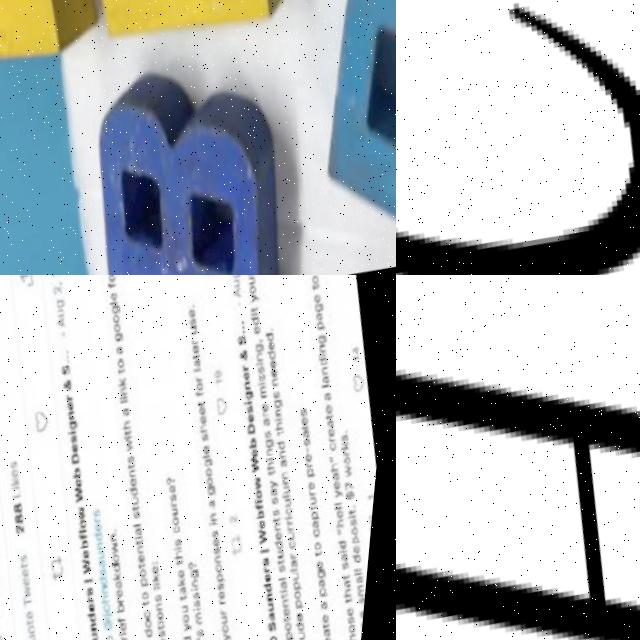0: (1, 633, 10, 640)
1: (371, 491, 380, 498), (218, 377, 226, 383), (356, 353, 364, 359)
2: (21, 523, 31, 533), (54, 284, 64, 293), (234, 513, 244, 522)
4: (354, 344, 364, 353)
7: (349, 479, 359, 488)
8: (19, 512, 30, 523), (18, 501, 28, 512)
9: (216, 368, 226, 377)
A: (58, 316, 69, 327), (232, 286, 243, 296), (275, 609, 284, 619), (362, 572, 371, 582), (187, 583, 195, 594), (337, 469, 345, 479), (118, 345, 126, 354), (267, 416, 275, 425), (297, 557, 305, 566), (317, 517, 325, 526), (350, 576, 358, 585), (347, 551, 355, 560), (330, 416, 338, 425), (327, 390, 335, 399), (325, 373, 333, 382), (317, 310, 325, 319), (328, 598, 335, 608), (105, 558, 112, 567), (122, 579, 129, 588), (141, 526, 148, 535), (126, 406, 133, 415), (214, 498, 221, 507), (196, 358, 203, 367), (287, 578, 294, 587), (276, 485, 283, 494), (285, 456, 292, 465), (331, 626, 338, 635), (325, 576, 332, 585), (307, 428, 314, 437), (366, 607, 372, 616)
B: (74, 55, 321, 275), (85, 538, 96, 548), (260, 508, 271, 518), (77, 467, 87, 477), (251, 436, 261, 446), (123, 602, 133, 611)
C: (396, 0, 640, 275), (290, 504, 299, 514), (295, 538, 303, 547), (333, 440, 341, 449), (151, 608, 158, 617), (180, 524, 187, 533), (319, 526, 326, 535)
D: (249, 421, 260, 433), (133, 485, 144, 496), (269, 580, 280, 591), (94, 611, 105, 621), (302, 620, 312, 630), (321, 354, 331, 364), (358, 552, 368, 562), (75, 451, 85, 461), (105, 575, 115, 584), (118, 562, 128, 571), (151, 628, 161, 637), (280, 538, 290, 547), (251, 314, 261, 323), (280, 439, 289, 449), (266, 331, 276, 340), (344, 537, 354, 546), (100, 530, 109, 540), (269, 349, 278, 358), (276, 633, 287, 640), (190, 634, 200, 640)
E: (270, 570, 279, 581), (280, 528, 289, 539), (88, 548, 97, 558), (111, 290, 120, 300), (250, 411, 260, 420), (245, 369, 254, 379), (322, 558, 331, 568), (341, 506, 350, 516), (314, 291, 323, 301), (95, 601, 103, 611), (100, 521, 108, 531), (264, 517, 272, 527), (255, 446, 263, 456), (329, 611, 337, 621), (309, 450, 317, 460), (338, 477, 346, 487), (29, 577, 37, 586), (16, 468, 24, 477), (75, 442, 83, 451), (70, 400, 78, 409), (127, 621, 135, 630), (158, 564, 166, 573), (185, 568, 193, 577), (218, 536, 226, 545), (207, 444, 215, 453), (203, 414, 211, 423), (194, 343, 202, 352), (190, 307, 198, 316), (290, 605, 298, 614), (265, 401, 273, 410), (255, 323, 263, 332), (273, 366, 281, 375), (272, 358, 280, 367), (270, 340, 278, 349), (354, 604, 362, 613), (329, 403, 337, 412), (80, 477, 87, 487), (135, 476, 142, 486), (34, 610, 41, 619), (29, 567, 36, 576), (123, 587, 130, 596), (144, 552, 151, 561), (174, 483, 181, 492), (225, 588, 232, 597), (202, 404, 209, 413), (304, 611, 311, 620), (313, 479, 320, 488), (305, 414, 312, 423), (332, 426, 339, 435), (359, 542, 366, 551), (332, 634, 339, 640), (166, 635, 174, 640), (0, 576, 3, 585)
F: (84, 531, 93, 538), (260, 501, 269, 508), (108, 281, 118, 287), (198, 389, 208, 395), (125, 615, 134, 621)
G: (196, 567, 207, 577), (323, 566, 334, 576), (72, 420, 82, 429), (116, 331, 126, 340), (248, 388, 258, 397), (269, 437, 279, 446), (320, 332, 329, 342), (316, 301, 326, 310), (57, 298, 67, 307), (113, 303, 122, 312), (213, 485, 222, 494), (209, 456, 218, 465), (258, 342, 267, 351), (277, 396, 286, 405)
H: (396, 375, 640, 640), (107, 594, 117, 603), (180, 549, 190, 558), (202, 422, 212, 431), (269, 459, 279, 468), (354, 631, 364, 640), (349, 586, 359, 595), (340, 516, 350, 525), (333, 461, 343, 470), (126, 419, 135, 428), (278, 420, 287, 429)
I: (260, 379, 269, 384), (159, 579, 167, 584), (258, 359, 266, 364), (247, 399, 256, 403), (289, 514, 298, 518), (17, 485, 25, 489), (72, 429, 80, 433), (126, 630, 134, 634), (140, 534, 148, 538), (128, 434, 136, 438), (164, 619, 172, 623), (180, 545, 188, 549), (200, 605, 208, 609), (198, 585, 206, 589), (286, 587, 294, 591), (270, 455, 278, 459), (252, 310, 260, 314), (344, 547, 352, 551), (354, 512, 362, 516), (123, 394, 131, 397), (216, 519, 222, 523), (278, 416, 286, 419), (320, 351, 328, 354), (0, 596, 4, 600)
J: (110, 611, 120, 616)
K: (119, 570, 129, 579), (120, 377, 130, 386), (184, 576, 193, 585), (157, 572, 167, 580), (344, 440, 354, 447), (15, 477, 24, 484)
L: (0, 0, 124, 98), (17, 488, 26, 498), (360, 569, 368, 574), (360, 565, 369, 569), (84, 528, 92, 532), (111, 300, 119, 304), (160, 585, 168, 589), (196, 366, 204, 370), (260, 497, 268, 501), (284, 575, 292, 579), (287, 492, 295, 496), (339, 504, 347, 508), (339, 499, 347, 503), (123, 399, 132, 402), (296, 566, 305, 569), (139, 523, 147, 526), (207, 453, 215, 456), (305, 423, 313, 426), (325, 383, 333, 386), (305, 638, 313, 640)
M: (201, 609, 210, 623), (286, 470, 295, 484), (363, 581, 372, 595), (263, 383, 271, 397)
N: (108, 584, 116, 594), (273, 590, 281, 600), (279, 520, 287, 530), (198, 578, 206, 587), (220, 553, 228, 562), (246, 379, 254, 388), (258, 351, 266, 360), (278, 406, 286, 415), (274, 375, 282, 384), (102, 540, 109, 550), (72, 410, 79, 419), (143, 543, 150, 552), (134, 467, 141, 476), (163, 600, 170, 609), (289, 597, 296, 606), (270, 446, 277, 455), (322, 341, 328, 351), (284, 449, 291, 457), (98, 621, 104, 630), (117, 532, 123, 541), (124, 386, 130, 395), (216, 511, 222, 520), (325, 364, 331, 373)
O: (228, 621, 237, 631), (260, 487, 269, 497), (300, 588, 309, 598), (356, 524, 365, 534), (85, 518, 93, 528), (221, 562, 229, 572), (292, 619, 300, 629), (177, 515, 185, 524), (210, 466, 218, 475), (199, 379, 207, 388), (320, 539, 328, 548), (356, 622, 364, 631), (36, 624, 43, 633), (110, 603, 117, 612), (119, 552, 126, 561), (149, 590, 156, 599), (146, 567, 153, 576), (120, 357, 127, 366), (115, 313, 122, 322), (164, 610, 171, 619), (190, 613, 197, 622), (211, 475, 218, 484), (251, 284, 258, 293), (348, 454, 355, 463), (153, 618, 159, 627), (116, 322, 122, 331), (113, 633, 120, 640), (312, 275, 319, 281), (109, 275, 116, 280)
P: (279, 0, 396, 275), (222, 571, 233, 581), (326, 585, 336, 595), (318, 319, 328, 329), (293, 628, 303, 637), (302, 596, 311, 606), (300, 578, 309, 588), (311, 466, 321, 475), (357, 532, 367, 541), (147, 576, 156, 585), (317, 508, 326, 517)
R: (52, 0, 317, 71), (227, 606, 234, 613), (94, 595, 102, 601), (69, 393, 77, 399), (270, 565, 278, 571), (265, 409, 273, 415), (99, 516, 106, 522), (129, 633, 135, 640), (124, 595, 131, 601), (198, 374, 205, 380), (194, 337, 200, 344), (297, 550, 303, 557), (293, 523, 300, 529), (314, 488, 321, 494), (311, 459, 317, 466), (176, 500, 183, 506), (226, 596, 232, 602), (245, 363, 251, 369), (293, 516, 299, 522), (333, 434, 339, 440), (348, 447, 354, 453), (368, 619, 371, 626), (0, 569, 2, 575)
S: (238, 333, 249, 343), (64, 364, 74, 374), (274, 619, 284, 629), (161, 592, 169, 602), (220, 544, 228, 554), (268, 555, 276, 565), (260, 362, 268, 372), (15, 459, 23, 468), (93, 587, 101, 596), (74, 434, 82, 443), (166, 627, 174, 636), (180, 536, 188, 545), (204, 627, 212, 636), (200, 597, 208, 606), (223, 580, 231, 589), (218, 527, 226, 536), (205, 431, 213, 440), (285, 562, 293, 571), (276, 494, 284, 503), (348, 558, 356, 567), (365, 594, 373, 603), (345, 431, 353, 440), (355, 613, 362, 623), (27, 553, 34, 562), (99, 507, 106, 516), (132, 453, 139, 462), (176, 491, 183, 500), (192, 315, 199, 324), (250, 403, 257, 412), (276, 388, 283, 397), (308, 435, 315, 444), (304, 406, 311, 415), (356, 515, 363, 524), (279, 505, 285, 515), (199, 590, 207, 597), (107, 567, 113, 576), (269, 427, 275, 436), (262, 371, 268, 380), (139, 510, 146, 517)
T: (30, 596, 40, 605), (0, 612, 8, 622), (181, 558, 191, 564), (251, 305, 261, 311), (186, 593, 195, 599), (200, 399, 209, 405), (287, 590, 296, 596), (320, 549, 329, 555), (137, 503, 144, 510), (120, 366, 127, 373), (330, 620, 337, 627), (195, 352, 203, 358), (278, 514, 286, 520), (34, 618, 41, 624), (27, 561, 34, 567), (149, 599, 156, 605), (144, 561, 151, 567), (141, 538, 148, 544), (132, 462, 139, 468), (128, 428, 135, 434), (165, 622, 172, 628), (291, 614, 298, 620), (284, 557, 291, 563), (273, 467, 280, 473), (280, 427, 287, 433), (315, 503, 322, 509), (352, 594, 359, 600), (349, 571, 356, 577), (329, 412, 336, 418), (313, 282, 320, 288), (354, 507, 361, 513), (0, 591, 4, 597), (0, 585, 4, 591), (357, 638, 365, 640)
U: (189, 602, 197, 612), (283, 547, 291, 557), (234, 276, 242, 286), (306, 629, 314, 638), (289, 495, 297, 504), (314, 494, 322, 503), (99, 630, 106, 640), (104, 548, 111, 558), (36, 632, 44, 640), (137, 495, 144, 504), (228, 614, 235, 623), (192, 324, 199, 333), (275, 600, 282, 609), (299, 570, 306, 579), (294, 529, 301, 538), (288, 483, 295, 492), (59, 306, 66, 315), (177, 505, 183, 514), (249, 275, 256, 282)
W: (78, 485, 90, 502), (254, 454, 266, 471), (87, 557, 99, 573), (262, 526, 274, 542), (258, 474, 268, 489), (83, 505, 92, 519), (117, 540, 126, 554), (348, 461, 357, 475), (30, 585, 39, 597), (0, 599, 7, 613), (130, 437, 138, 449)
Y: (190, 621, 200, 630), (230, 631, 240, 640), (274, 477, 284, 486), (339, 486, 349, 495), (252, 292, 261, 301)
